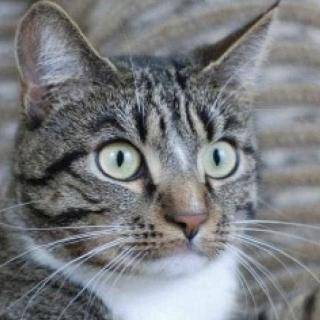cat: (6, 0, 288, 277)
nose: (156, 182, 214, 239)
